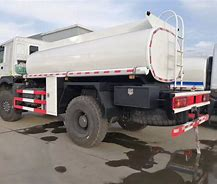oil truck: (0, 8, 206, 145)
